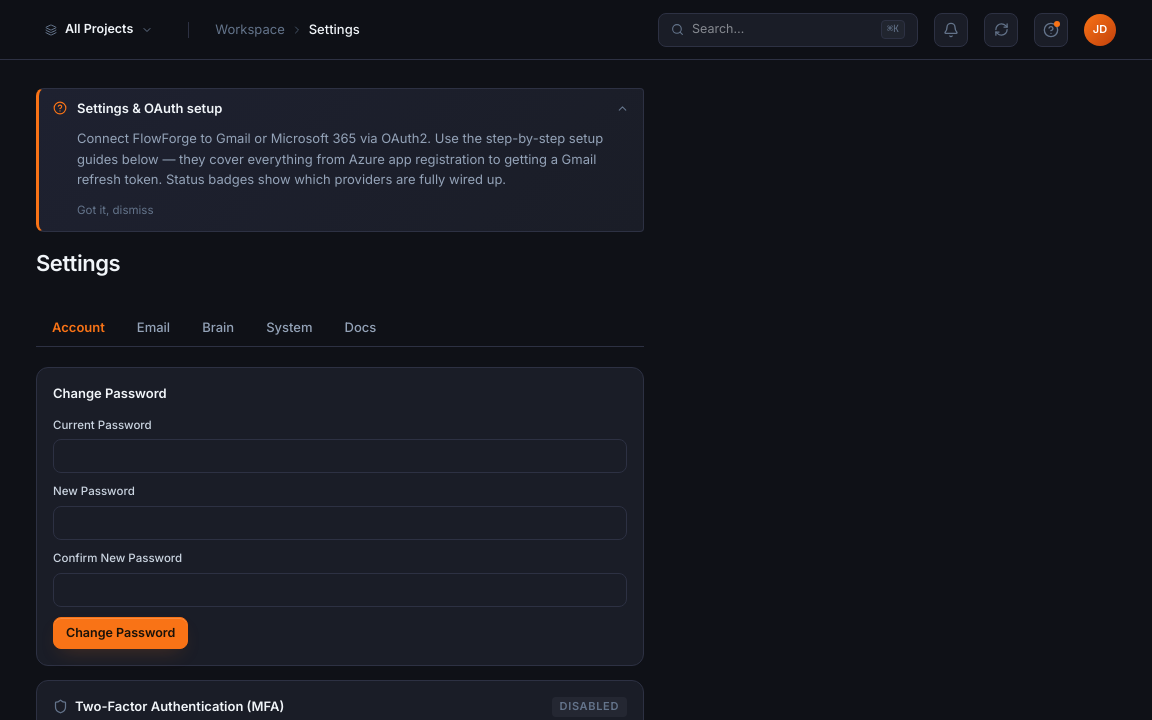
Test: Settings › shows retention policy section title
Click the button "System" at x=289, y=327, box [250,308,328,347]
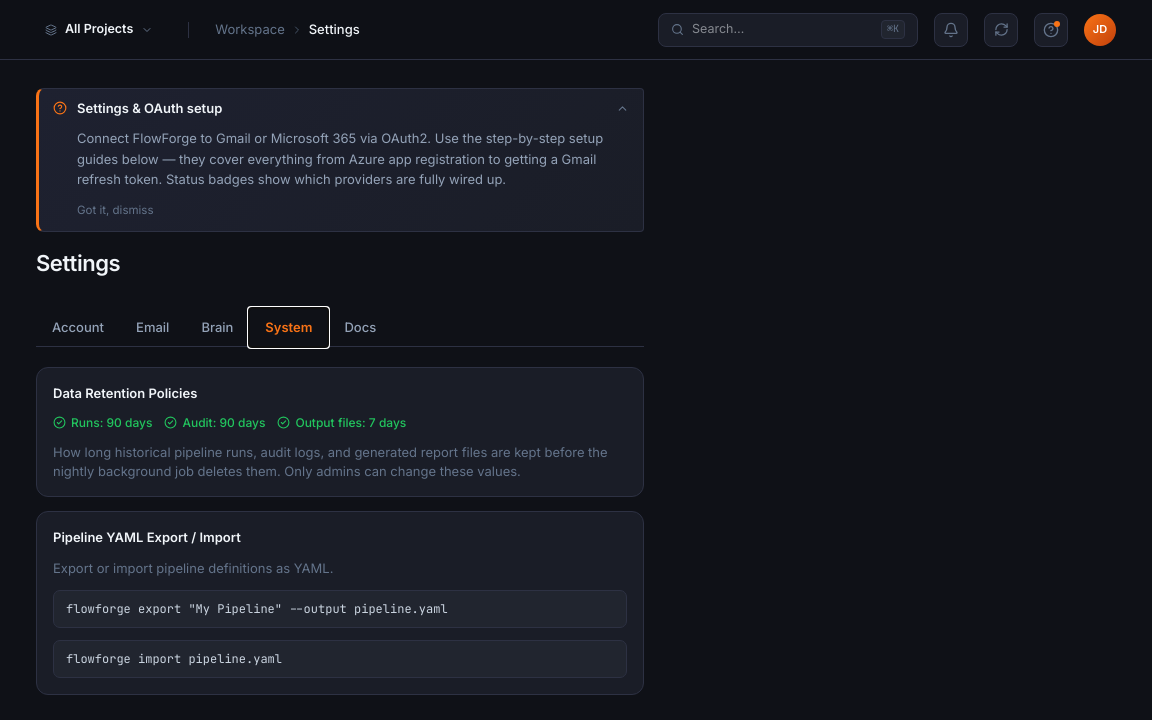
Expected: the text "Data Retention Policies" is shown, [53,385,197,401]
